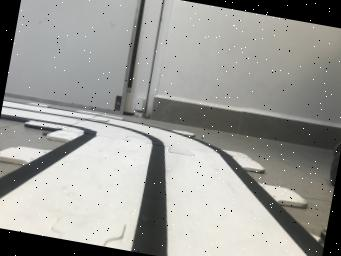street: (0, 100, 322, 256), (0, 100, 322, 256), (0, 100, 322, 256), (0, 100, 322, 256), (0, 100, 322, 256), (0, 100, 322, 256)
